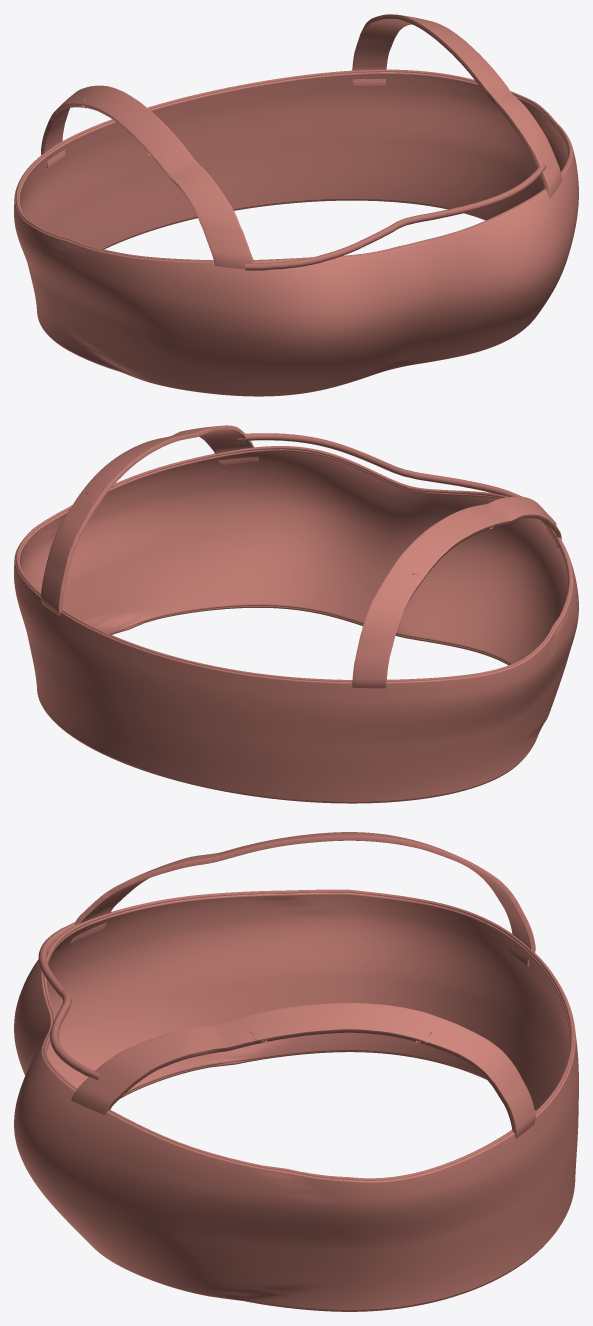
File: Feminine-strappy-top.glb
3 renders of one model, top to bottom at view 1: azimuth 30°, elevation 25°; view 2: azimuth 150°, elevation 25°; view 3: azimuth 270°, elevation 25°, orthographic. The views are drawn at different scales.
Parts seen in each view (by area): view 1: Clothing / strappy body, Clothing / strappy strap -1, Clothing / strappy strap 1, strappy body / bound edge.001 export, Crop / seated diagonal strap export, strappy body / bound edge export; view 2: Clothing / strappy body, Clothing / strappy strap -1, Clothing / strappy strap 1, strappy body / bound edge.001 export, Crop / seated diagonal strap export, strappy body / bound edge export; view 3: Clothing / strappy body, Clothing / strappy strap 1, Clothing / strappy strap -1, strappy body / bound edge.001 export, Crop / seated diagonal strap export, strappy body / bound edge export.
Part boxes in pixels (x1=…): Clothing / strappy body: x1=14, y1=72, x2=578, y2=396; Clothing / strappy strap -1: x1=41, y1=85, x2=253, y2=269; Clothing / strappy strap 1: x1=352, y1=14, x2=561, y2=198; strappy body / bound edge.001 export: x1=15, y1=69, x2=571, y2=261; Crop / seated diagonal strap export: x1=245, y1=163, x2=546, y2=270; strappy body / bound edge export: x1=49, y1=199, x2=485, y2=371; Clothing / strappy body: x1=14, y1=446, x2=578, y2=802; Clothing / strappy strap -1: x1=352, y1=496, x2=561, y2=688; Clothing / strappy strap 1: x1=41, y1=425, x2=258, y2=615; strappy body / bound edge.001 export: x1=15, y1=446, x2=571, y2=682; Crop / seated diagonal strap export: x1=237, y1=433, x2=556, y2=524; strappy body / bound edge export: x1=58, y1=605, x2=518, y2=803; Clothing / strappy body: x1=14, y1=892, x2=578, y2=1310; Clothing / strappy strap 1: x1=71, y1=1002, x2=535, y2=1138; Clothing / strappy strap -1: x1=70, y1=832, x2=535, y2=967; strappy body / bound edge.001 export: x1=43, y1=889, x2=574, y2=1180; Crop / seated diagonal strap export: x1=38, y1=922, x2=100, y2=1079; strappy body / bound edge export: x1=120, y1=1051, x2=544, y2=1311.
Bounding box in the file's own units: 0.6458 × 0.2722 × 0.5307.
